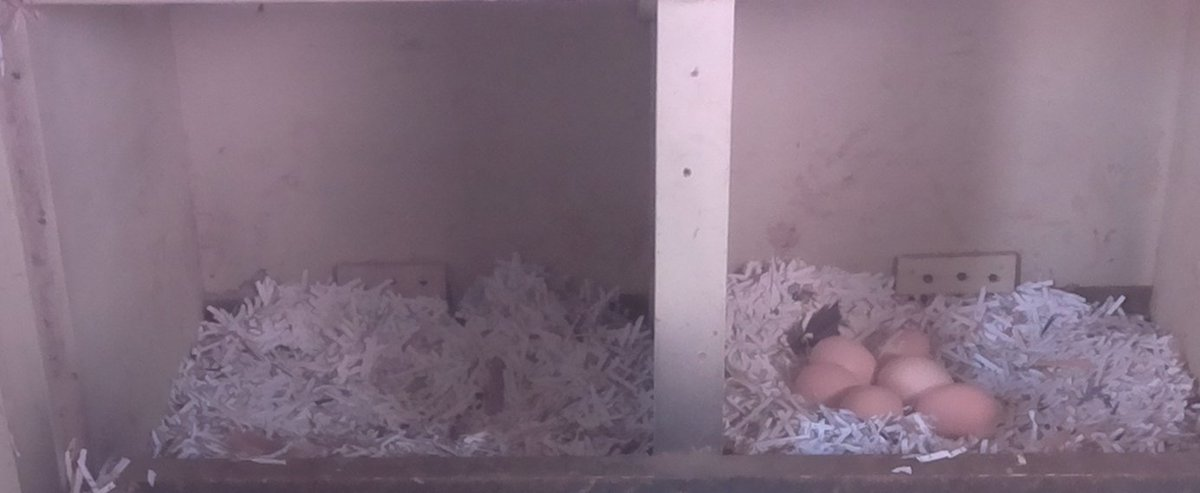egg: (912, 383, 1015, 448), (788, 354, 865, 412), (803, 334, 877, 391), (871, 352, 959, 399), (837, 382, 906, 426), (874, 324, 933, 366)
